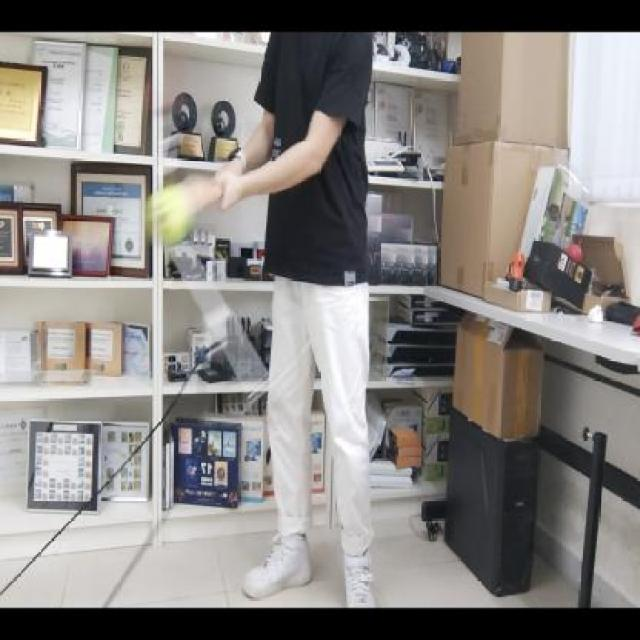baseball: (142, 185, 196, 249)
